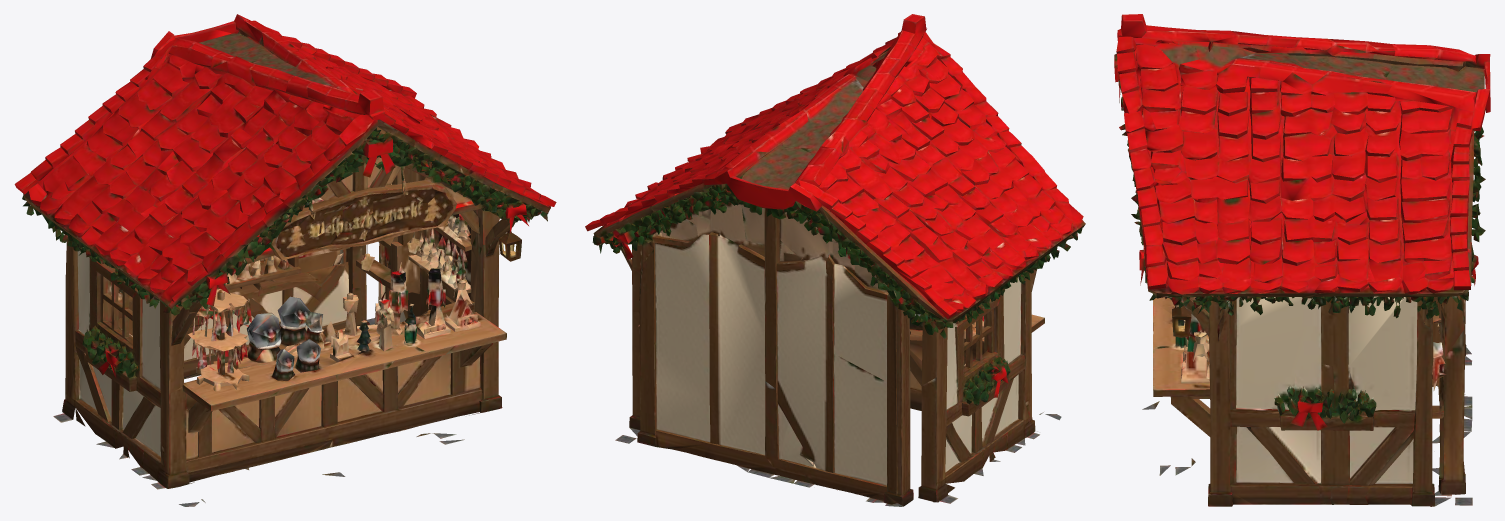
File: redstall.glb
The picture shows the model from 3 angles, left to right: view 1: azimuth 30°, elevation 25°; view 2: azimuth 150°, elevation 25°; view 3: azimuth 270°, elevation 25°; orthographic projection. The views are drawn at different scales.
Parts seen in each view (by area): view 1: s4.glb; view 2: s4.glb; view 3: s4.glb.
Part boxes in pixels (x1,y1,x2,y2): s4.glb: [14, 14, 556, 506]; s4.glb: [585, 14, 1085, 506]; s4.glb: [1114, 14, 1490, 506].
Bounding box in the file's own units: 1.87 × 1.72 × 1.45.
Materials: 1 (1 with a texture image).
